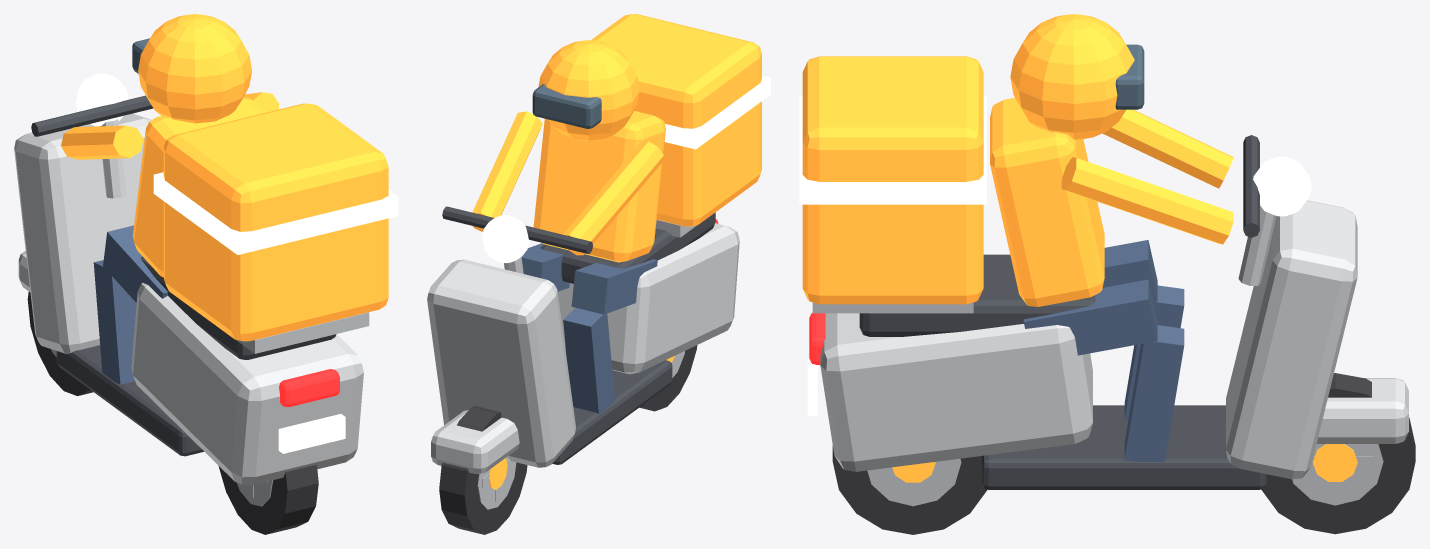
Rendered from delivery_swiggy.glb.
3 views of the same model, side by side, from view 1: azimuth 30°, elevation 25°; view 2: azimuth 150°, elevation 25°; view 3: azimuth 270°, elevation 25° (orthographic). The views are drawn at different scales.
Visible parts, largest first — view 1: Scooter_Body, Wheel_Rear, Wheel_Front.001; view 2: Scooter_Body, Wheel_Front.001, Wheel_Rear; view 3: Scooter_Body, Wheel_Front.001, Wheel_Rear.
Part boxes in pixels (left/top/right/bottom): Scooter_Body: left=14, top=14, right=398, bottom=485; Wheel_Rear: left=218, top=464, right=318, bottom=534; Wheel_Front.001: left=27, top=292, right=93, bottom=395; Scooter_Body: left=427, top=14, right=770, bottom=473; Wheel_Front.001: left=439, top=406, right=527, bottom=534; Wheel_Rear: left=639, top=345, right=697, bottom=411; Scooter_Body: left=799, top=14, right=1408, bottom=489; Wheel_Front.001: left=1261, top=373, right=1415, bottom=534; Wheel_Rear: left=832, top=446, right=987, bottom=534.
Size of the model in its own units: 0.6397 by 1.67 by 1.84.
